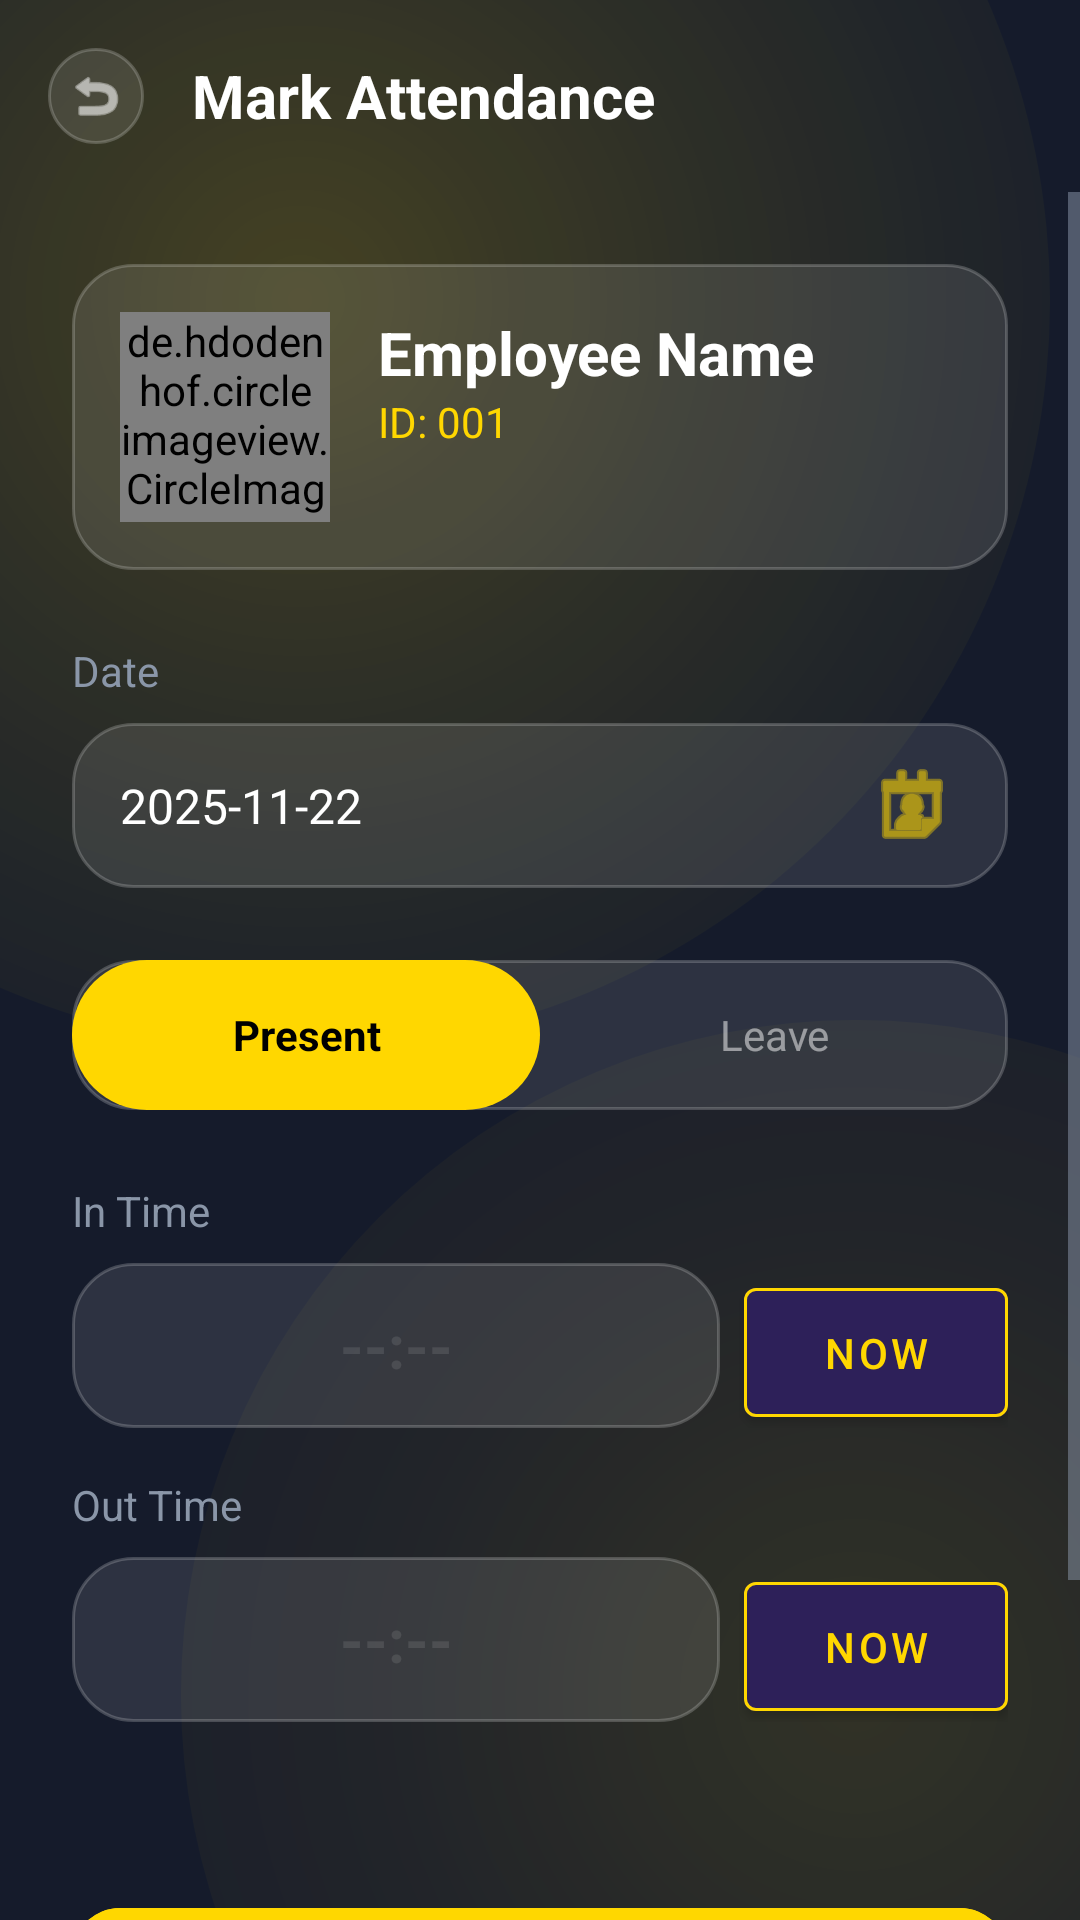

Icon bounding boxes for this 1080*1920 phone screenshot, format [left=x1, top=y1, right=x2, bottom=y2]:
revert: [left=48, top=48, right=144, bottom=144]
